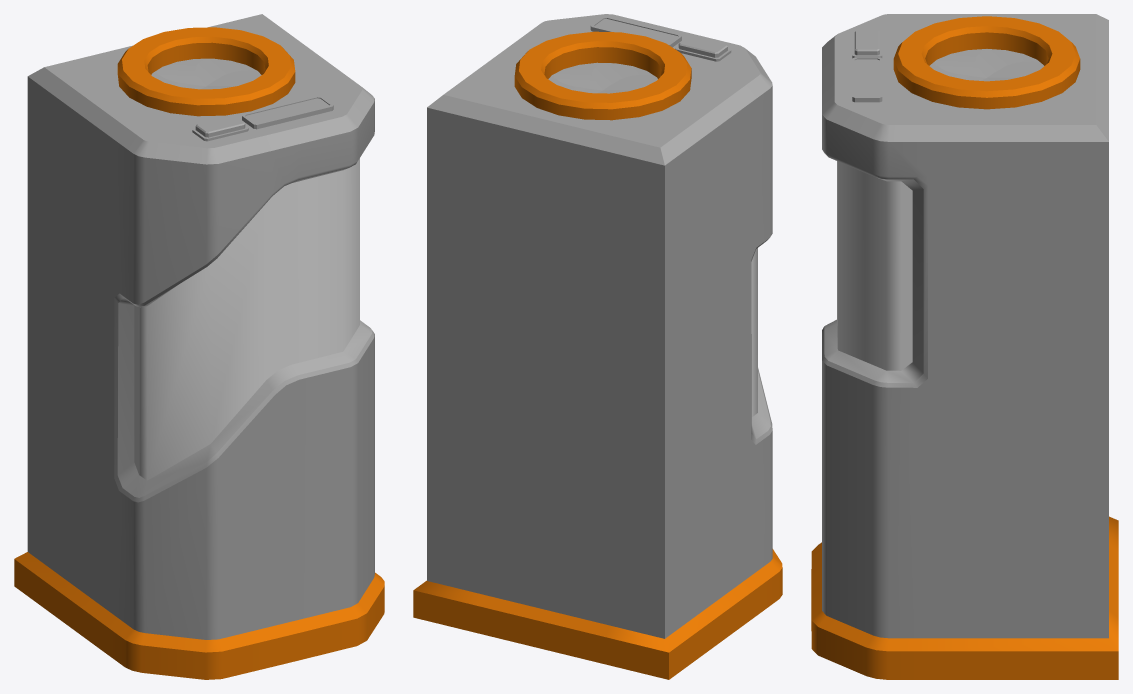
File: SM_cup_dispenser.fbx
3 views of the same model, side by side, from view 1: azimuth 30°, elevation 25°; view 2: azimuth 150°, elevation 25°; view 3: azimuth 270°, elevation 25° (orthographic). The views are drawn at different scales.
Visible parts, largest first — view 1: cup_dispenser, pCylinder6, blade_1, button, blade_5; view 2: cup_dispenser, blade_4, blade_5, button, blade_3; view 3: cup_dispenser, blade_2, blade_3, button, blade_1.
Boxes of the visible parts, x1,y1,x2,y2 form: cup_dispenser: [14, 14, 384, 679]; pCylinder6: [195, 58, 257, 85]; blade_1: [156, 58, 206, 86]; button: [195, 115, 245, 137]; blade_5: [207, 70, 261, 86]; cup_dispenser: [413, 14, 782, 679]; blade_4: [592, 63, 653, 89]; blade_5: [553, 62, 603, 90]; button: [678, 36, 727, 57]; blade_3: [603, 74, 657, 90]; cup_dispenser: [811, 14, 1118, 679]; blade_2: [975, 49, 1039, 77]; blade_3: [935, 49, 987, 77]; button: [854, 30, 879, 55]; blade_1: [987, 61, 1043, 77].
Bounding box in the file's own units: 0.6 × 1.2 × 0.5957.
